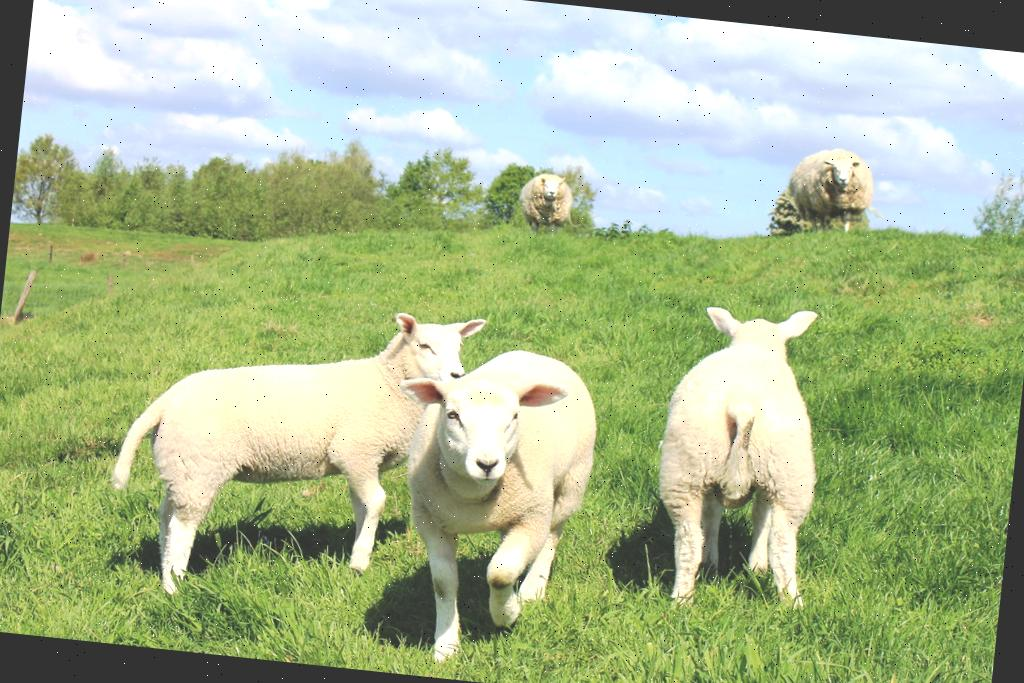Sheep: (100, 279, 473, 646), (374, 335, 604, 675), (644, 292, 830, 618), (786, 143, 874, 231), (516, 169, 578, 230)
